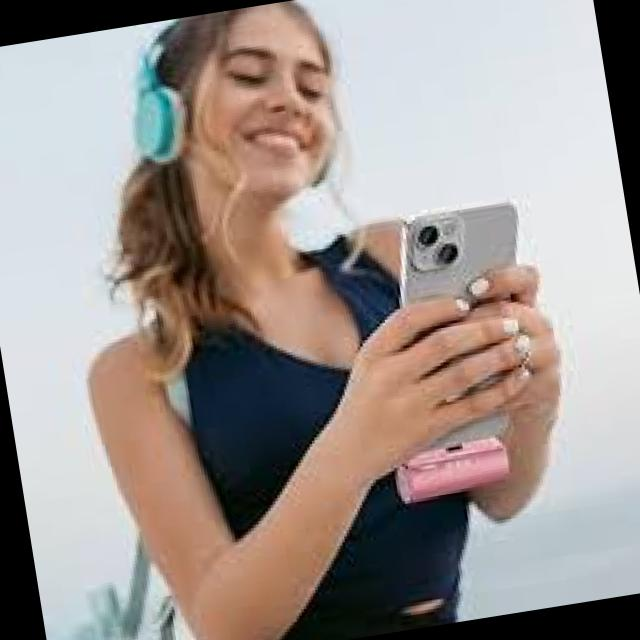power_bank: (386, 430, 519, 509)
